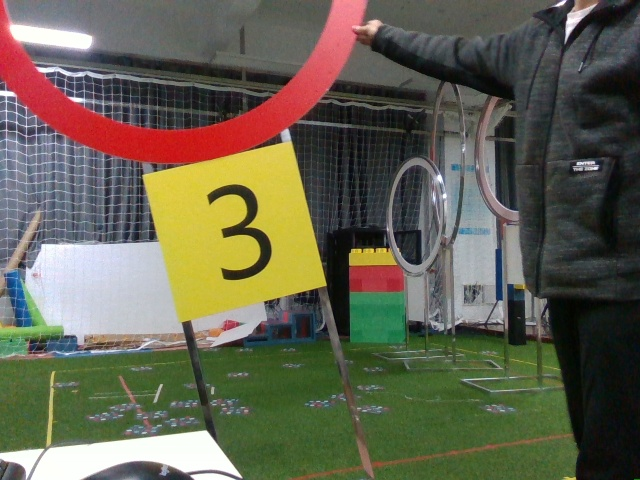target: (143, 152, 320, 310)
